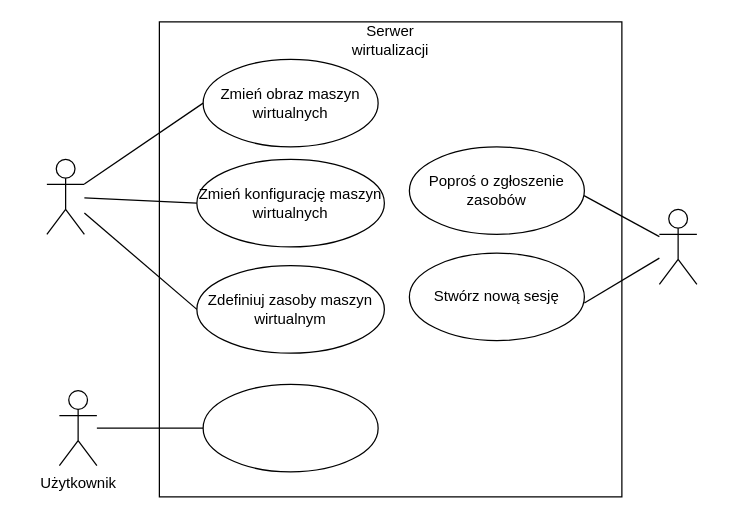
This 731x519 diagram has some shape labels left out. Here are the shapes that lost their labels. From the top down, the centre of each, then its label:
the point at 65,196: Administrator
the point at 677,246: Nadzorca
the point at 290,427: Nawiąż połączenie z maszyną
